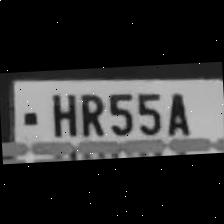5: (102, 86, 134, 134), (132, 87, 164, 135)
A: (159, 85, 193, 136)
H: (42, 87, 79, 138)
R: (74, 87, 104, 137)
